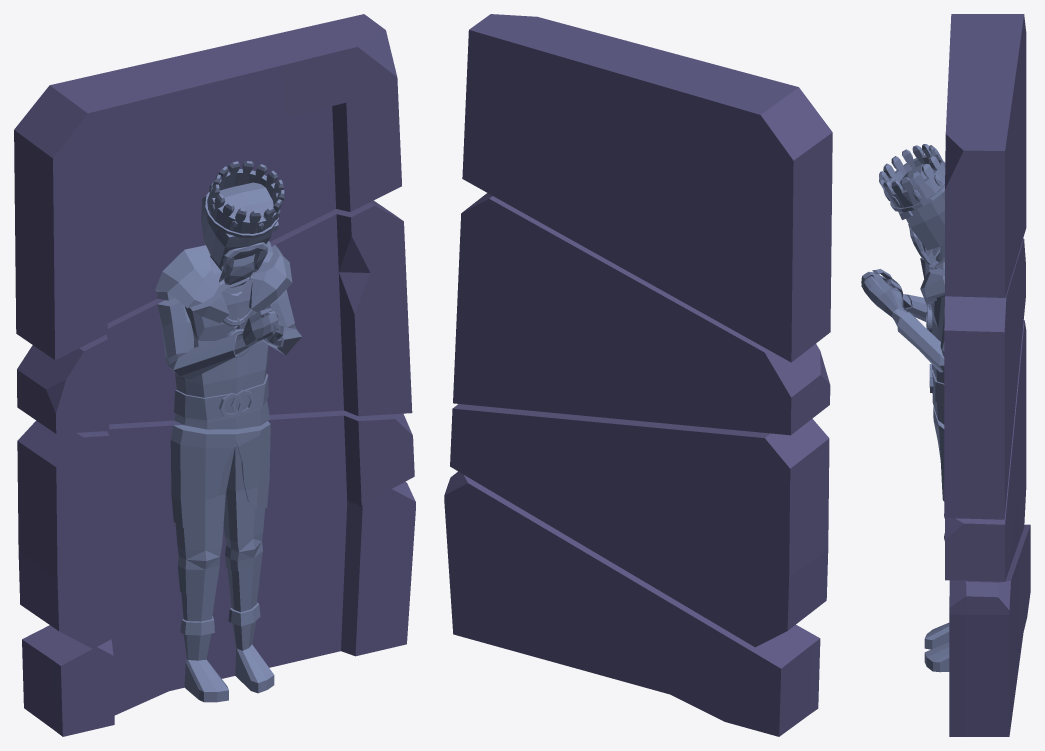
Rendered from Graveyard Keep King Doors Broken.fbx.
3 views of the same model, side by side, from view 1: azimuth 30°, elevation 25°; view 2: azimuth 150°, elevation 25°; view 3: azimuth 270°, elevation 25° (orthographic). The views are drawn at different scales.
Visible parts, largest first — view 1: Graveyard Keep King Doors Brokken.003, Graveyard Keep King Doors Brokken.002, Graveyard Keep King Doors Brokken.004, Graveyard Keep King Doors Brokken.001; view 2: Graveyard Keep King Doors Brokken.003, Graveyard Keep King Doors Brokken.002, Graveyard Keep King Doors Brokken.004, Graveyard Keep King Doors Brokken.001; view 3: Graveyard Keep King Doors Brokken.003, Graveyard Keep King Doors Brokken.004, Graveyard Keep King Doors Brokken.001, Graveyard Keep King Doors Brokken.002.
Part boxes in pixels (bbox=[...]): Graveyard Keep King Doors Brokken.003: bbox=[14, 14, 401, 360]; Graveyard Keep King Doors Brokken.002: bbox=[17, 410, 414, 648]; Graveyard Keep King Doors Brokken.004: bbox=[17, 200, 412, 433]; Graveyard Keep King Doors Brokken.001: bbox=[22, 481, 415, 736]; Graveyard Keep King Doors Brokken.003: bbox=[462, 14, 832, 362]; Graveyard Keep King Doors Brokken.002: bbox=[450, 404, 829, 647]; Graveyard Keep King Doors Brokken.004: bbox=[453, 193, 830, 435]; Graveyard Keep King Doors Brokken.001: bbox=[444, 471, 820, 736]; Graveyard Keep King Doors Brokken.003: bbox=[879, 14, 1026, 297]; Graveyard Keep King Doors Brokken.004: bbox=[861, 238, 1025, 519]; Graveyard Keep King Doors Brokken.001: bbox=[924, 524, 1030, 736]; Graveyard Keep King Doors Brokken.002: bbox=[933, 320, 1026, 581].
Size of the model in its own units: 136 by 224 by 58.04.
